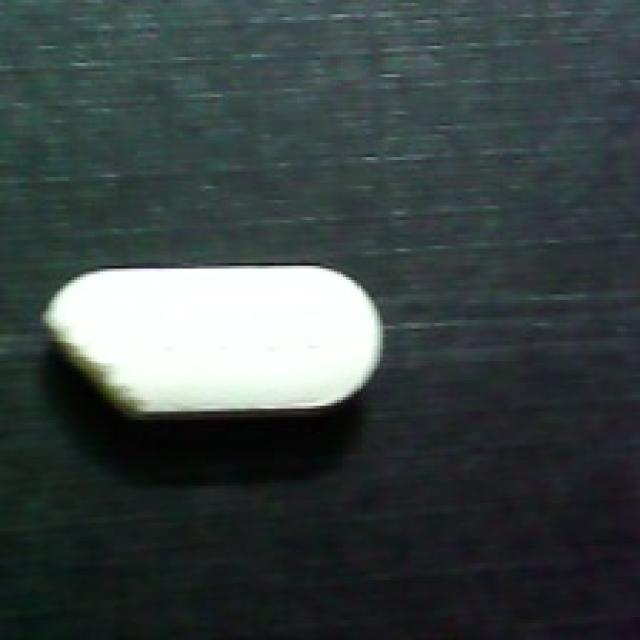defected: (34, 254, 391, 426)
